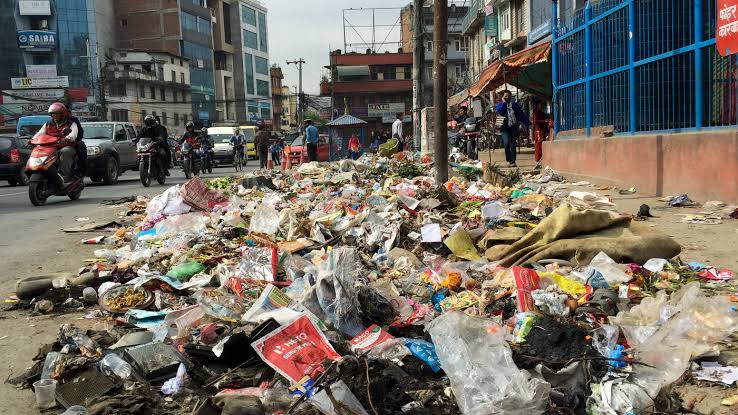garbage: (26, 276, 730, 415), (153, 193, 590, 415), (293, 166, 430, 412)
